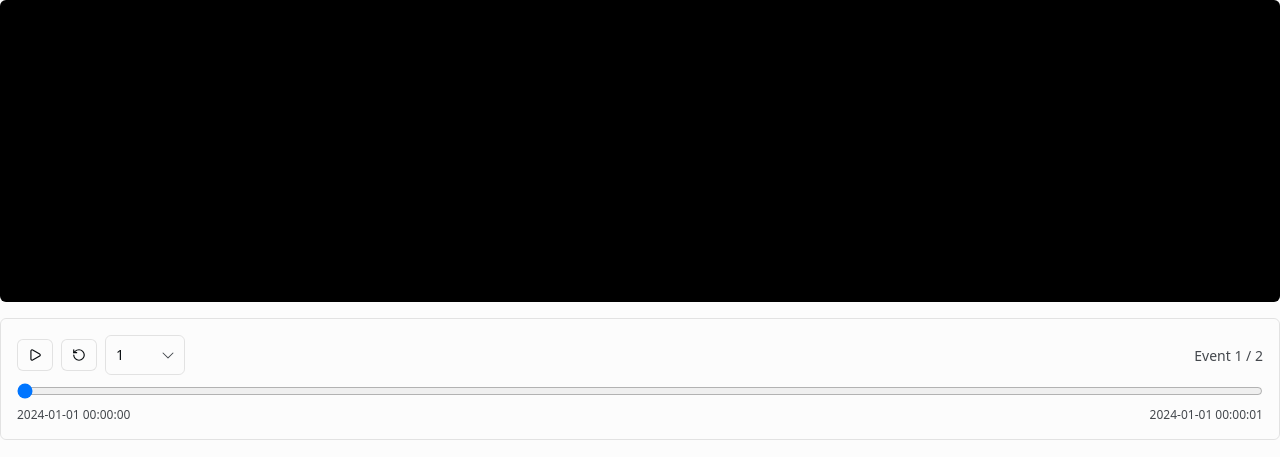
Scenario: RecordingPlayer › should show play button after pausing
This screenshot has width=1280, height=457.
Click the button named "Play". click: (35,355)
box: 17,339 -> 53,371
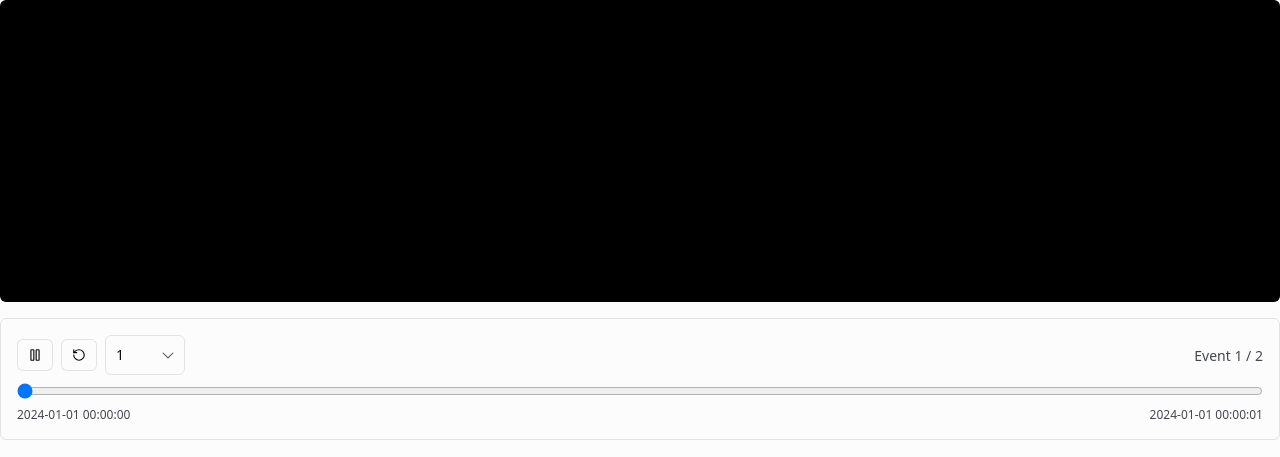
Click the button named "Pause". click: (35,355)
box: 17,339 -> 53,371
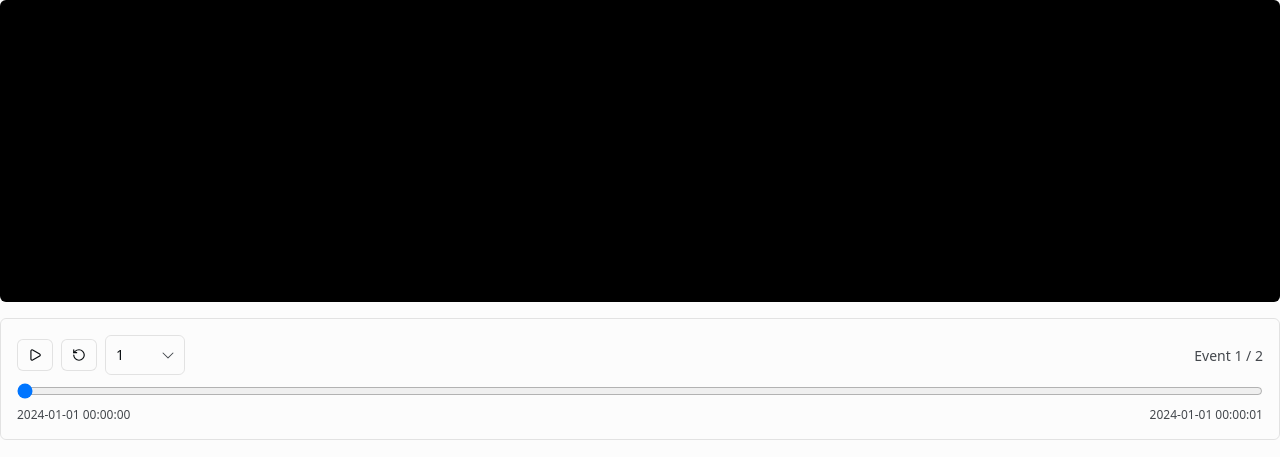
Check: the button named "Play" is shown, box 17,339 -> 53,371
